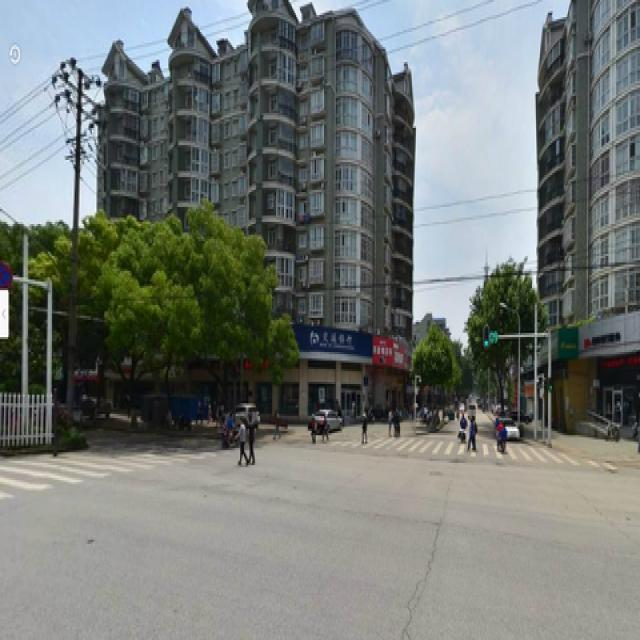cinn: (194, 218, 254, 412), (132, 228, 188, 433), (90, 241, 138, 408)
